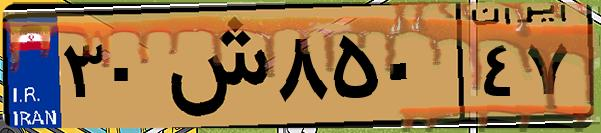0: (385, 28, 445, 110), (110, 28, 158, 98)
3: (57, 26, 110, 100)
4: (475, 38, 525, 113)
5: (330, 28, 385, 110)
7: (525, 38, 570, 115)
8: (270, 28, 330, 110)
ش: (158, 12, 270, 120)
